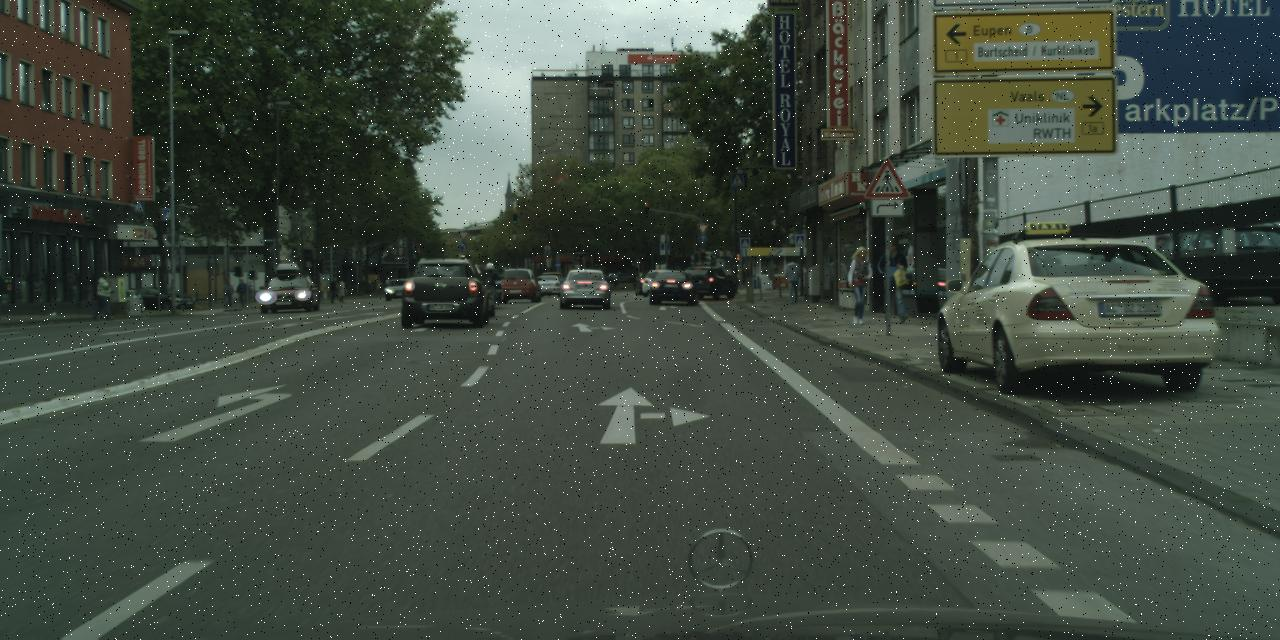ped: (878, 242, 911, 322), (844, 246, 875, 323), (94, 271, 114, 320), (784, 258, 801, 302), (481, 262, 498, 302), (222, 279, 234, 309), (236, 279, 248, 307), (328, 276, 339, 303), (336, 276, 346, 303), (612, 272, 619, 290), (632, 274, 638, 290)
